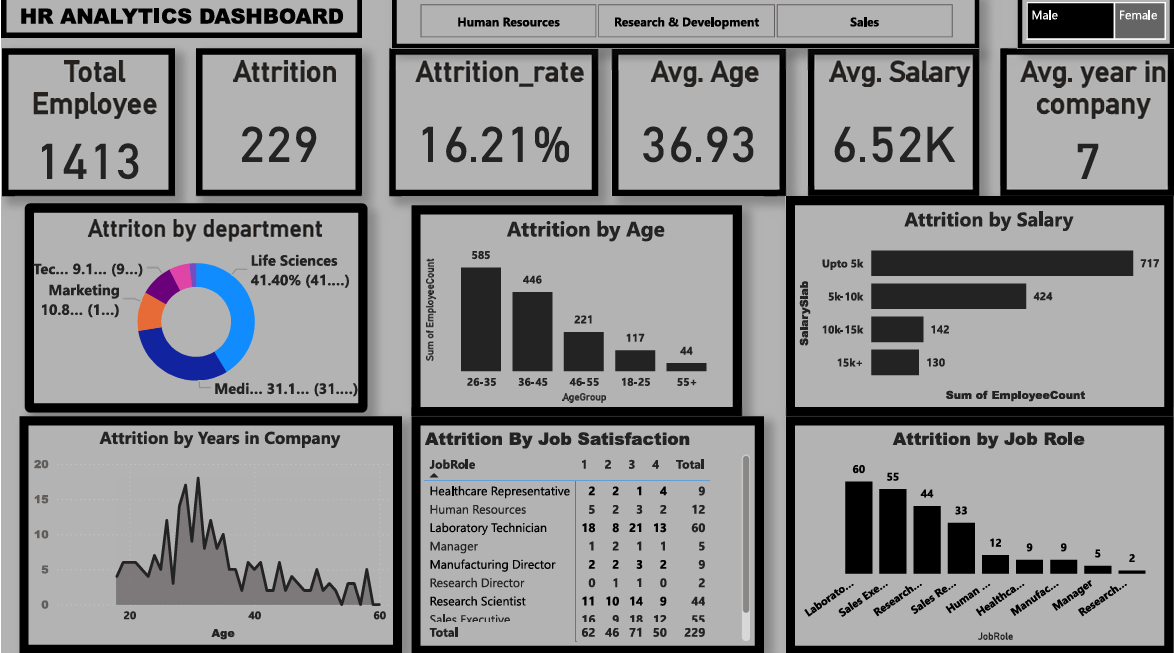

The page's visual inventory and layout, read from the dashboard file:
{"tool":"powerbi","page":{"name":"Page 1","canvas":[1280,720],"ordinal":0},"visuals":[{"type":"card","title":"Total Employee","fields":{"Values":["Sum(HR_Analytics.EmployeeCount)"]},"box":[0,60.4,189.3,160.7],"z":0},{"type":"card","title":"Attrition","fields":{"Values":["Sum(HR_Analytics.Attrition_count)"]},"box":[211.6,60.4,181.3,160.7],"z":1000},{"type":"card","title":"Attrition_rate","fields":{"Values":["HR_Analytics.Att.Rate"]},"box":[423.1,60.4,227.5,160.7],"z":2000},{"type":"card","title":"Avg. Age","fields":{"Values":["HR_Analytics.Avg_Age"]},"box":[666.5,60.4,189.3,160.7],"z":3000},{"type":"card","title":"Avg. Salary","fields":{"Values":["HR_Analytics.Avg_Salary"]},"box":[879.6,60.4,187.7,160.7],"z":4000},{"type":"card","title":"Avg. year in company","fields":{"Values":["HR_Analytics.Avg_years_in_company"]},"box":[1089.6,60.4,190.9,160.7],"z":5000},{"type":"donutChart","title":"Attriton by department ","fields":{"Category":["HR_Analytics.EducationField"],"Y":["CountNonNull(HR_Analytics.EducationField)"]},"box":[24.6,228.7,374.2,228.7],"z":6000},{"type":"columnChart","title":"Attrition by Age Group","fields":{"Category":["HR_Analytics.AgeGroup"],"Y":["Sum(HR_Analytics.EmployeeCount)"]},"box":[447,230.6,361.1,230.6],"z":7000},{"type":"barChart","title":"Attrition by Salary","fields":{"Category":["HR_Analytics.SalarySlab"],"Y":["Sum(HR_Analytics.EmployeeCount)"]},"box":[856.1,221.1,423.3,240],"z":8000},{"type":"areaChart","title":"Attrition by Years in Company","fields":{"Category":["HR_Analytics.Age"],"Y":["Sum(HR_Analytics.Attrition_count)"]},"box":[18.9,461.1,417.6,258.9],"z":9000},{"type":"pivotTable","title":"Attrition By Job Satisfaction","fields":{"Rows":["HR_Analytics.JobRole"],"Columns":["HR_Analytics.JobSatisfaction"],"Values":["Sum(HR_Analytics.Attrition_count)"]},"box":[447,461.3,384.9,259.3],"z":10000},{"type":"columnChart","title":"Attrition by Job Role","fields":{"Category":["HR_Analytics.JobRole"],"Y":["Sum(HR_Analytics.Attrition_count)"]},"box":[855.7,461.3,423.1,259.3],"z":11000},{"type":"treemap","title":"Gender","fields":{"Group":["HR_Analytics.Gender"],"Values":["Sum(HR_Analytics.Attrition_count)"]},"box":[1108.7,0,171.8,60.4],"z":12000},{"type":"slicer","title":"hbjb","fields":{"Values":["HR_Analytics.Department"]},"box":[426.3,0,641,60.4],"z":13000},{"type":"shape","title":"HR","box":[0,0,392.9,47.7],"z":14001}]}

Visuals, with their boxes in screenshot pixels (x1, y1, x2, y2), scaled from the page's 1280x720 canvas onto the 1174x653 screenshot:
"Total Employee" card: 0/55/174/201
"Attrition" card: 194/55/360/201
"Attrition_rate" card: 388/55/597/201
"Avg. Age" card: 611/55/785/201
"Avg. Salary" card: 807/55/979/201
"Avg. year in company" card: 999/55/1173/201
"Attriton by department " donutChart: 23/207/366/415
"Attrition by Age Group" columnChart: 410/209/741/418
"Attrition by Salary" barChart: 785/201/1173/418
"Attrition by Years in Company" areaChart: 17/418/400/652
"Attrition By Job Satisfaction" pivotTable: 410/418/763/652
"Attrition by Job Role" columnChart: 785/418/1173/652
"Gender" treemap: 1017/0/1173/55
"hbjb" slicer: 391/0/979/55
"HR" shape: 0/0/360/43
